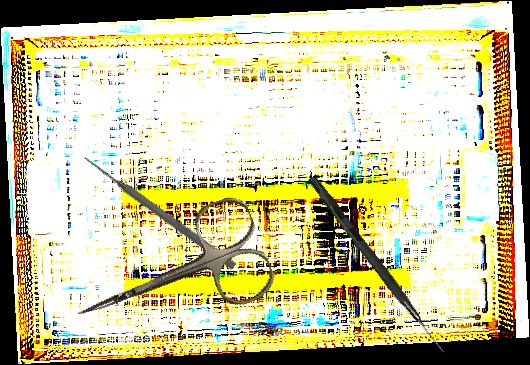Hook Surgical: (305, 175, 450, 355)
Iris Scissors: (58, 191, 280, 362)
Pusher: (81, 152, 238, 272)
